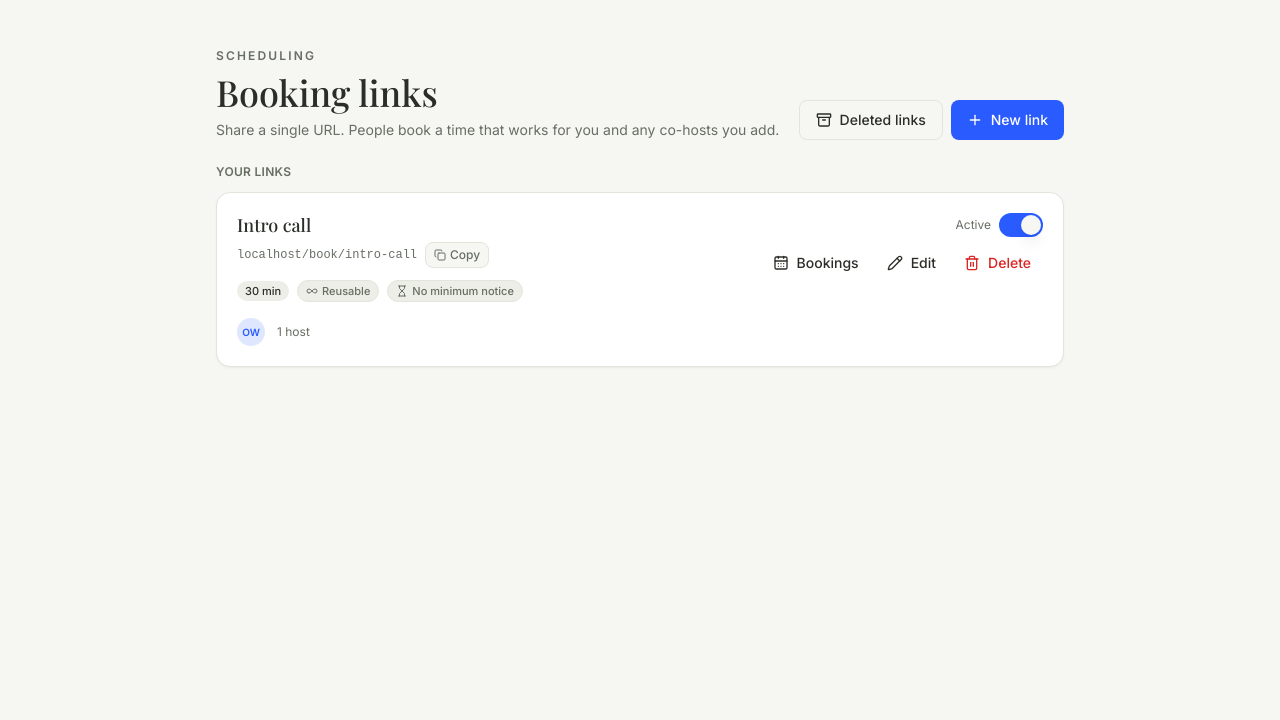
Test: PAC-40 Links page › enabled=true: the confirmation quotes the server's retention_days
Click the button with aria-label "Delete Intro call" at (998, 263), box [952,245,1043,281]
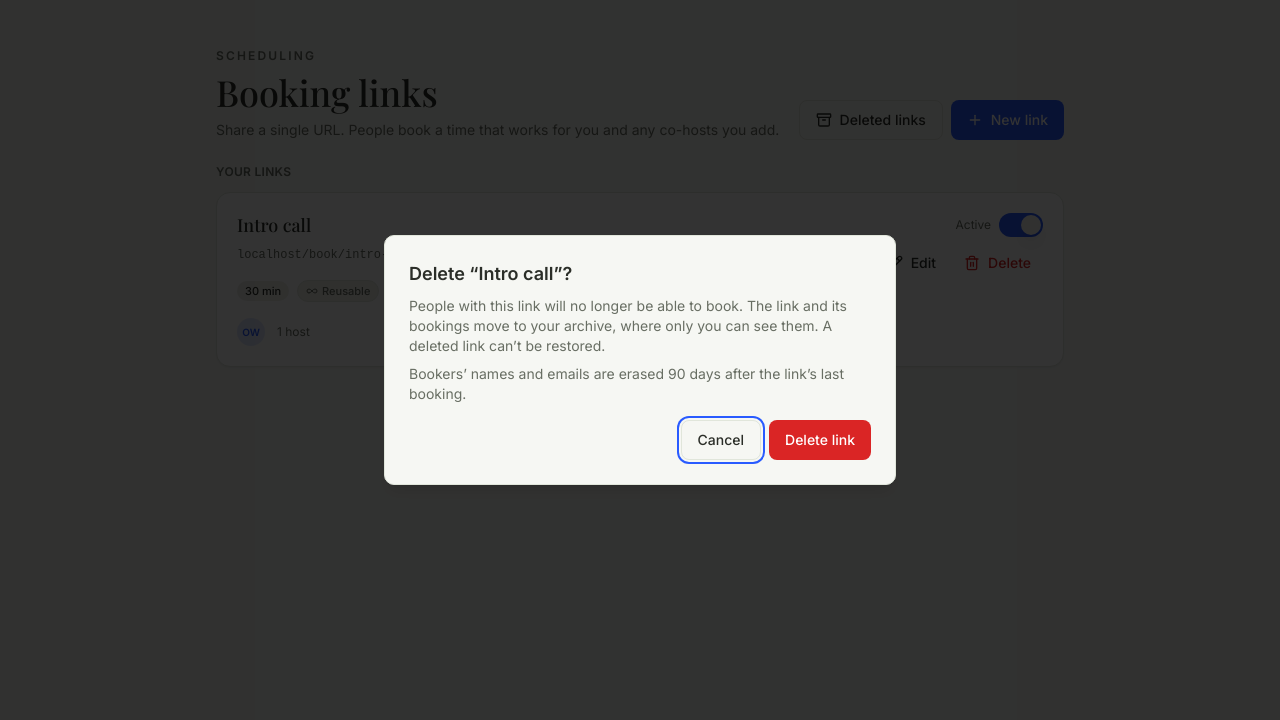
Now the text with test id "link-delete-erasure" reads "Bookers’ names and emails are erased 90 days after the link’s last booking.", box [409,364,871,404]
